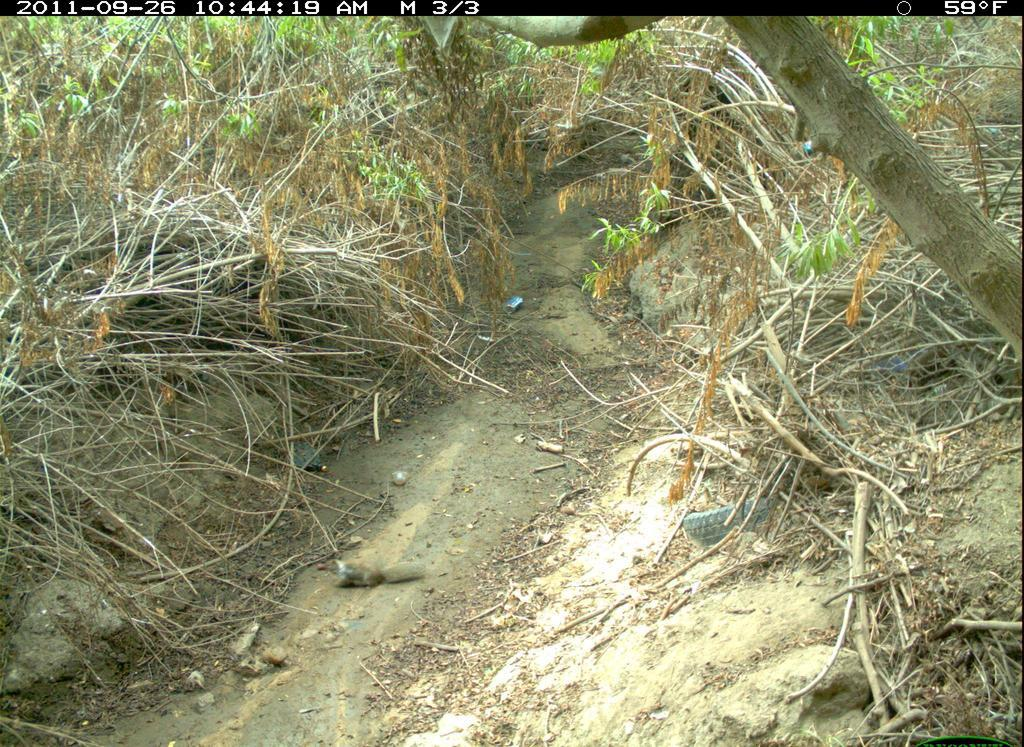squirrel: (313, 552, 433, 593)
